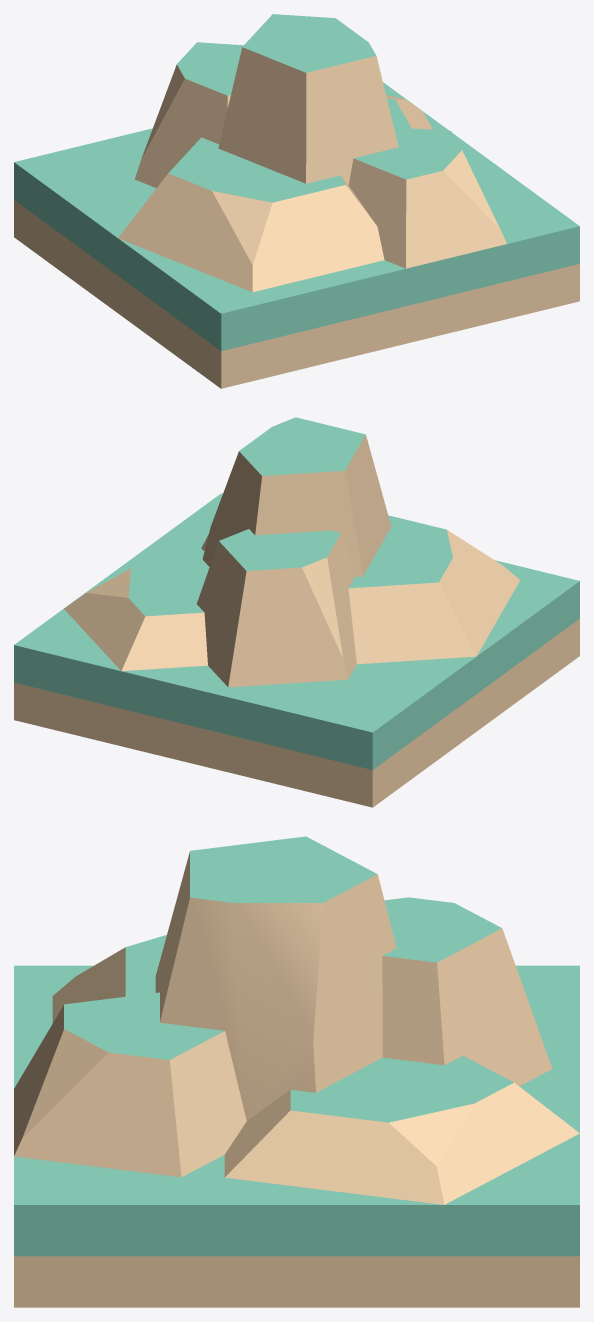
Rendered from tile_rock.glb.
The picture shows the model from 3 angles, top to bottom: view 1: azimuth 30°, elevation 25°; view 2: azimuth 150°, elevation 25°; view 3: azimuth 270°, elevation 25°; orthographic projection. The views are drawn at different scales.
Parts seen in each view (by area): view 1: tile_rock; view 2: tile_rock; view 3: tile_rock.
Part boxes in pixels (bbox=[...]): tile_rock: bbox=[14, 14, 579, 388]; tile_rock: bbox=[14, 417, 579, 807]; tile_rock: bbox=[14, 836, 579, 1307].
Bounding box in the file's own units: 1 × 0.6186 × 1.
